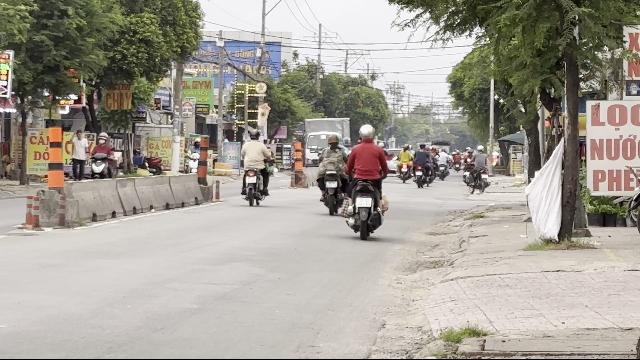helmet: (357, 124, 375, 142)
licenseplate: (356, 197, 372, 207)
motorcyclist: (342, 124, 392, 238)
